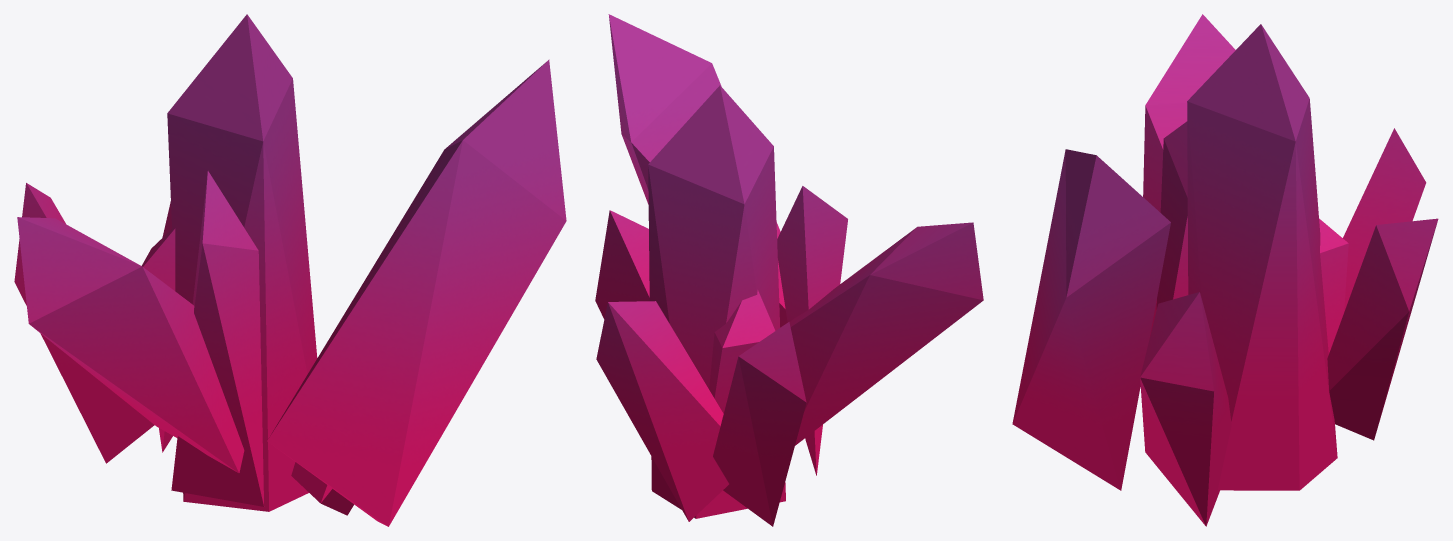
Rendered from crystal4.fbx.
The picture shows the model from 3 angles, left to right: view 1: azimuth 30°, elevation 25°; view 2: azimuth 150°, elevation 25°; view 3: azimuth 270°, elevation 25°; orthographic projection. The views are drawn at different scales.
Parts seen in each view (by area): view 1: cristal_4; view 2: cristal_4; view 3: cristal_4.
Boxes of the visible parts, x1,y1,x2,y2 form: cristal_4: (14,14,566,526); cristal_4: (595,14,983,526); cristal_4: (1012,14,1438,526).
Bounding box in the file's own units: 0.5388 × 0.5371 × 0.4411.
1 material, 1 textured.
